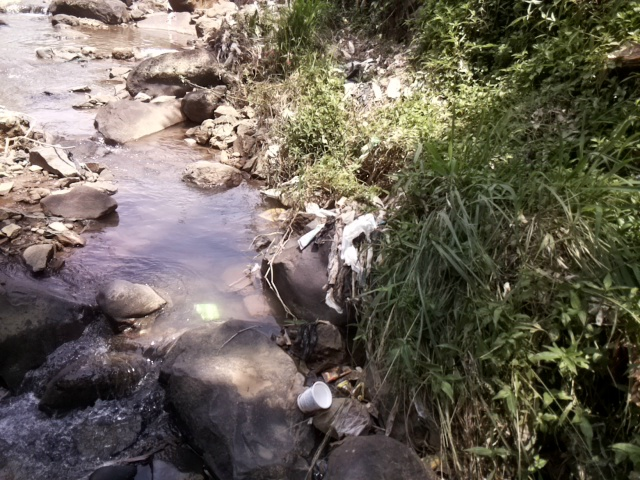Sampah_Styrofoam: (295, 379, 335, 414)
